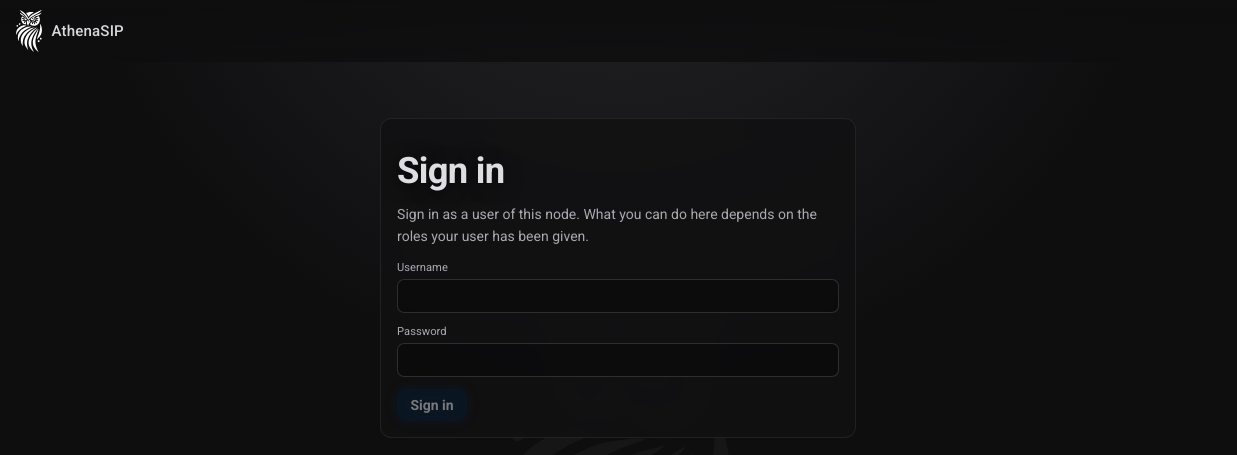
Scenario: App › tells a user with no roles so, rather than showing an empty console
Type "newhire" into the field labelled "Username" at {"x": 618, "y": 296}, box [397,279,839,313]
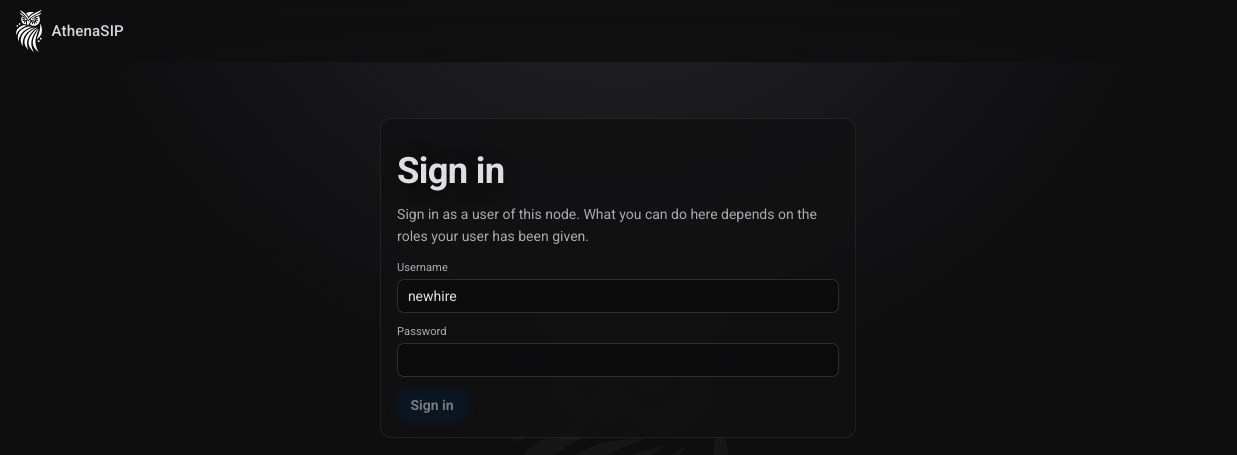
Type "newhire" into the password field labelled "Password" at {"x": 618, "y": 360}, box [397,343,839,377]
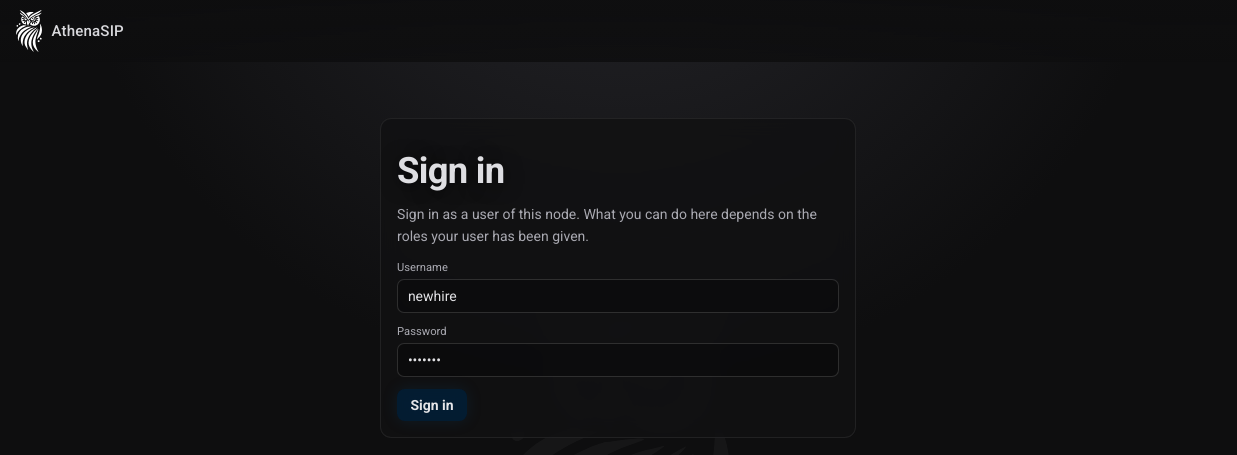
Click the button "Sign in" at {"x": 432, "y": 405}, box [397,389,467,421]
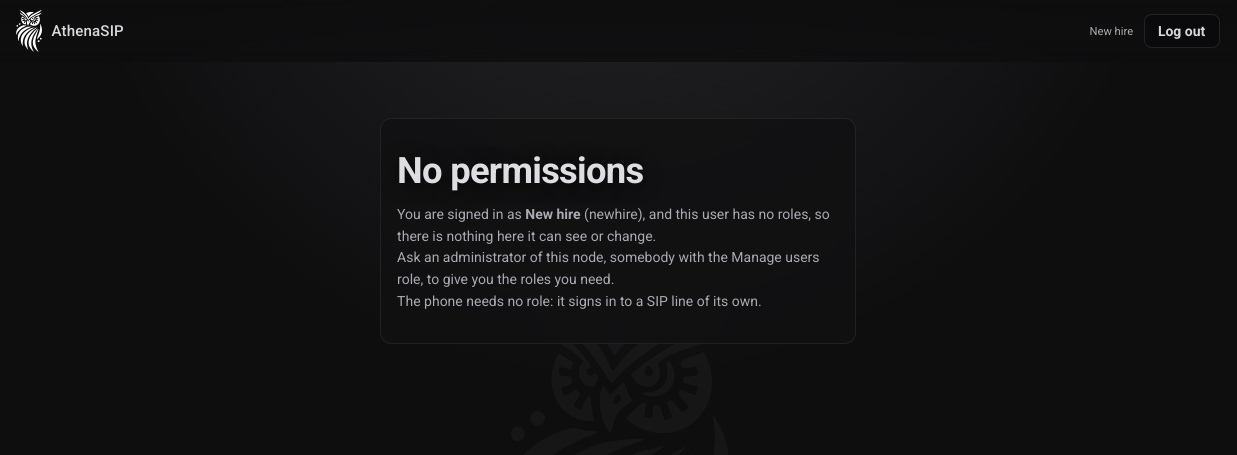
Expected: the heading "No permissions" is shown, [397,149,643,192]
Expected: the button "Log out" is shown, [1144,14,1220,48]
